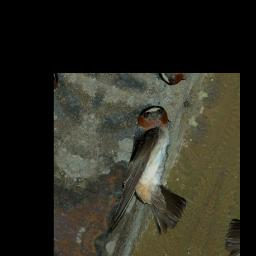Swallow: (97, 99, 214, 256)
